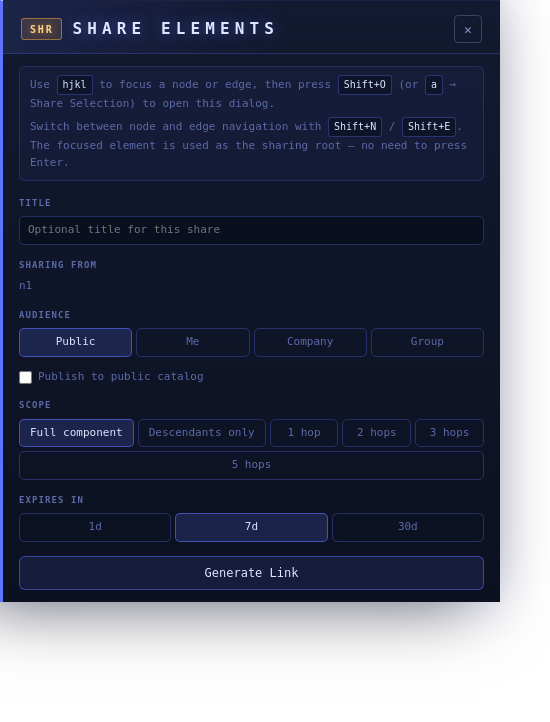
it: ElementShareDialog – generate flow › shows an error message when the API throws
The image size is (550, 722).
Click the button with test id "generate-btn" at (252, 573), box [19,556,484,590]
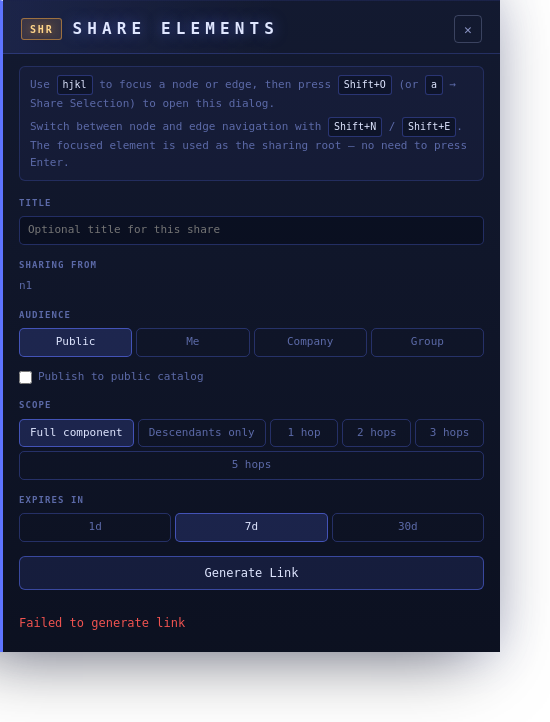
Expected: the text "Failed to generate link" is shown, [19,616,185,630]
